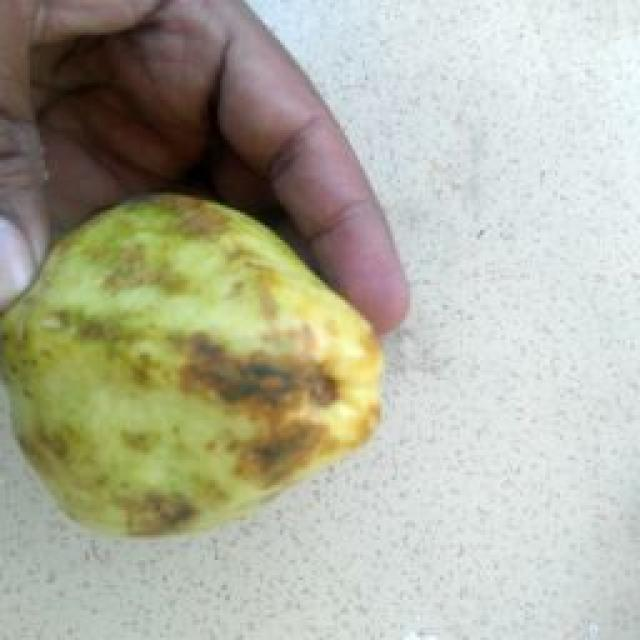Bad_Guava: (0, 195, 382, 534)
